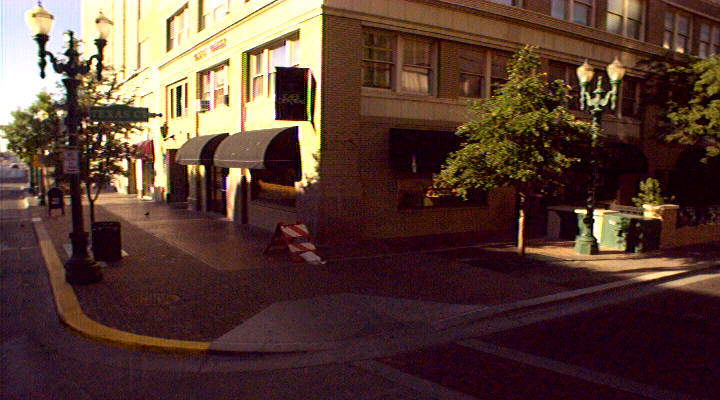Ramp: (199, 289, 501, 360)
